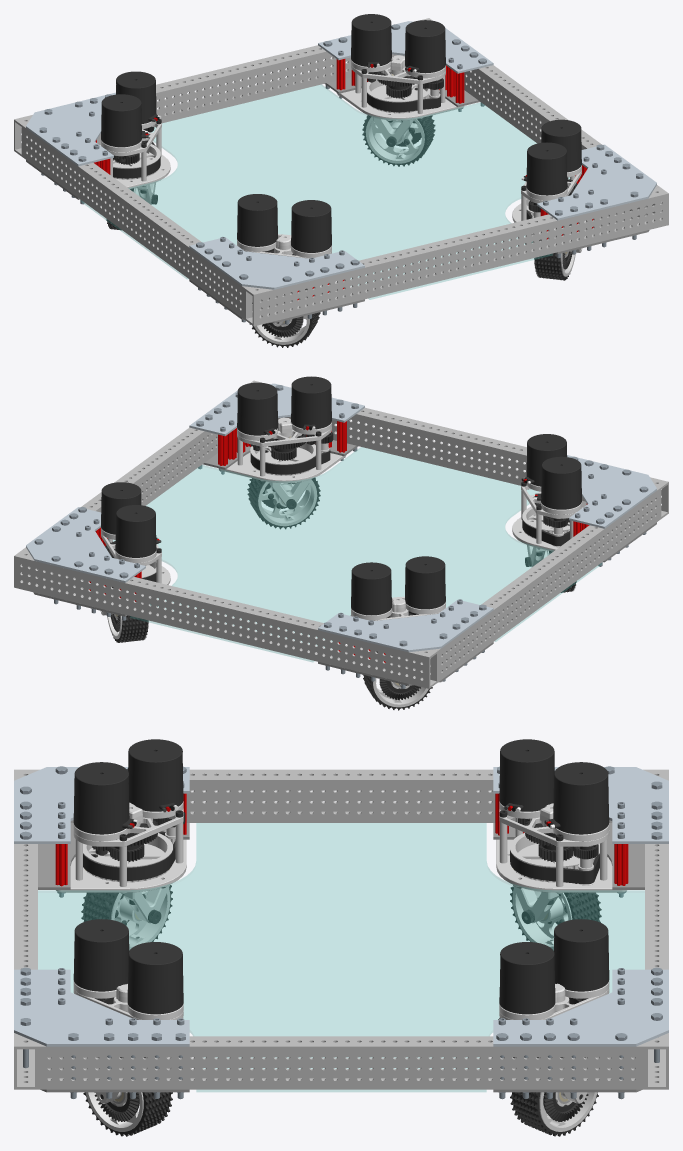
The picture shows the model from 3 angles, top to bottom: view 1: azimuth 30°, elevation 25°; view 2: azimuth 150°, elevation 25°; view 3: azimuth 270°, elevation 25°; orthographic projection. The views are drawn at different scales.
Parts seen in each view (by area): view 1: Belly pan, Front Frame member, NEO Brushless Motor V1.1 (×8), top corner gusset (×4), right side frame member, Rear Frame member, Left side Frame member, MK3 Plates_Both Plates With Chamfers (×3), Wheel, SDS, Nitrile Tread, 4in X 1.5in, Bearing Bore (×2), Tread, Black Nitrile 4in X 1.5in (×2), MK3 Base Pulley V3 (×2), Belt, 320-5M-15 (+3 smaller); view 2: Belly pan, Rear Frame member, NEO Brushless Motor V1.1 (×8), top corner gusset (×4), right side frame member, Front Frame member, Left side Frame member, Wheel, SDS, Nitrile Tread, 4in X 1.5in, Bearing Bore (×2), MK3 Plates_Both Plates With Chamfers (×2), Tread, Black Nitrile 4in X 1.5in (×2), Belt, 320-5M-15, MK3 Base Pulley V3 (+3 smaller); view 3: Belly pan, NEO Brushless Motor V1.1 (×8), Left side Frame member, top corner gusset (×4), right side frame member, MK3 Plates_Both Plates With Chamfers (×4), Wheel, SDS, Nitrile Tread, 4in X 1.5in, Bearing Bore (×4), Rear Frame member, Front Frame member, Tread, Black Nitrile 4in X 1.5in (×4), bottom corner gusset (×4), Belt, 320-5M-15 (×2) (+5 smaller).
Boxes of the visible parts, bbox=[...] form: Belly pan: bbox=[81, 84, 569, 299]; Front Frame member: bbox=[245, 187, 668, 326]; NEO Brushless Motor V1.1 (×8): bbox=[101, 14, 581, 252]; top corner gusset (×4): bbox=[26, 21, 656, 289]; right side frame member: bbox=[22, 125, 259, 319]; Rear Frame member: bbox=[14, 18, 432, 156]; Left side Frame member: bbox=[464, 65, 659, 216]; MK3 Plates_Both Plates With Chamfers (×3): bbox=[115, 57, 464, 188]; Wheel, SDS, Nitrile Tread, 4in X 1.5in, Bearing Bore (×2): bbox=[254, 117, 424, 344]; Tread, Black Nitrile 4in X 1.5in (×2): bbox=[362, 115, 570, 280]; MK3 Base Pulley V3 (×2): bbox=[100, 79, 430, 179]; Belt, 320-5M-15: bbox=[367, 93, 440, 112]; Belly pan: bbox=[113, 447, 601, 661]; Rear Frame member: bbox=[14, 549, 437, 688]; NEO Brushless Motor V1.1 (×8): bbox=[101, 376, 581, 615]; top corner gusset (×4): bbox=[26, 383, 656, 652]; right side frame member: bbox=[423, 487, 660, 681]; Front Frame member: bbox=[250, 380, 668, 519]; Left side Frame member: bbox=[23, 427, 217, 579]; Wheel, SDS, Nitrile Tread, 4in X 1.5in, Bearing Bore (×2): bbox=[258, 479, 428, 707]; MK3 Plates_Both Plates With Chamfers (×2): bbox=[218, 419, 346, 483]; Tread, Black Nitrile 4in X 1.5in (×2): bbox=[112, 477, 320, 642]; Belt, 320-5M-15: bbox=[250, 444, 330, 474]; MK3 Base Pulley V3: bbox=[250, 442, 315, 475]; Belly pan: bbox=[38, 823, 644, 1091]; NEO Brushless Motor V1.1 (×8): bbox=[73, 739, 609, 1014]; Left side Frame member: bbox=[37, 1036, 645, 1089]; top corner gusset (×4): bbox=[14, 767, 668, 1046]; right side frame member: bbox=[37, 769, 645, 822]; MK3 Plates_Both Plates With Chamfers (×4): bbox=[56, 808, 626, 893]; Wheel, SDS, Nitrile Tread, 4in X 1.5in, Bearing Bore (×4): bbox=[85, 888, 597, 1131]; Rear Frame member: bbox=[645, 769, 668, 1089]; Front Frame member: bbox=[14, 769, 37, 1089]; Tread, Black Nitrile 4in X 1.5in (×4): bbox=[81, 885, 601, 1136]; bottom corner gusset (×4): bbox=[38, 823, 644, 1092]; Belt, 320-5M-15 (×2): bbox=[83, 831, 599, 884].
Bounding box in the file's own units: 0.6985 × 0.2196 × 0.6985.
